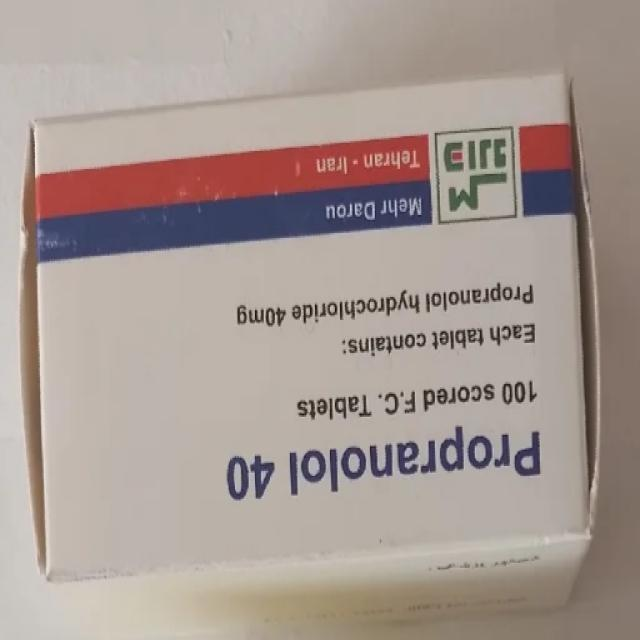drug-name: (228, 424, 554, 502)
